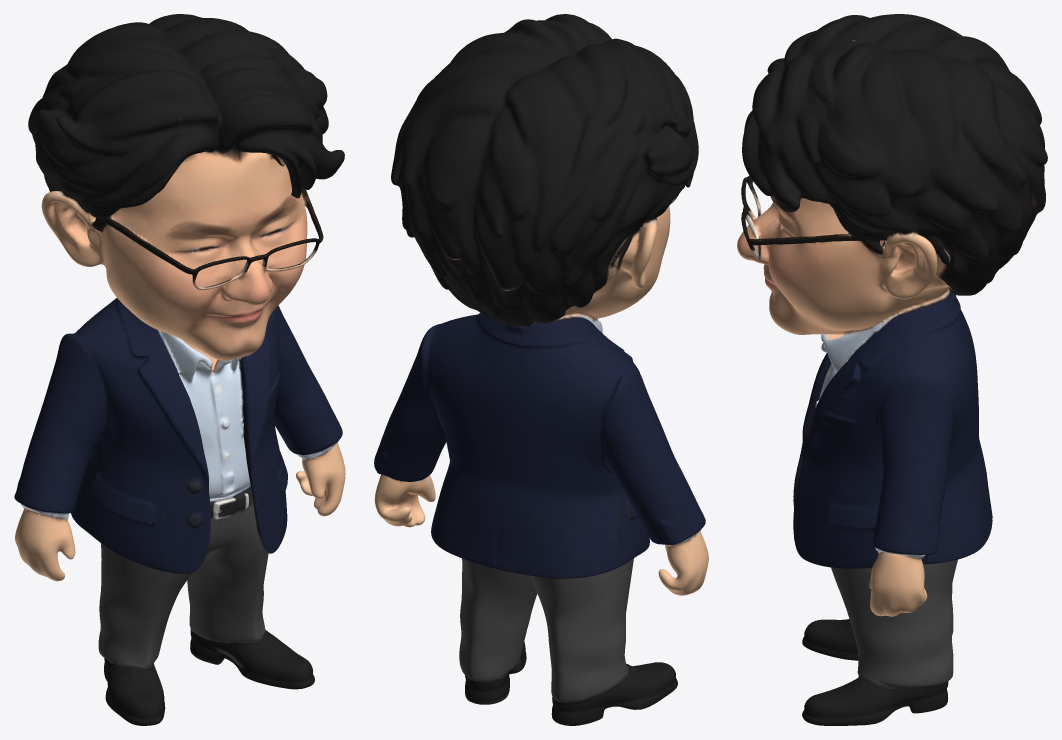
Rendered from principal-meshy-source.glb.
The picture shows the model from 3 angles, left to right: view 1: azimuth 30°, elevation 25°; view 2: azimuth 150°, elevation 25°; view 3: azimuth 270°, elevation 25°; orthographic projection.
Bounding box in the file's own units: 0.9827 × 1.9 × 0.8272.
Materials: 1 (1 with a texture image).
